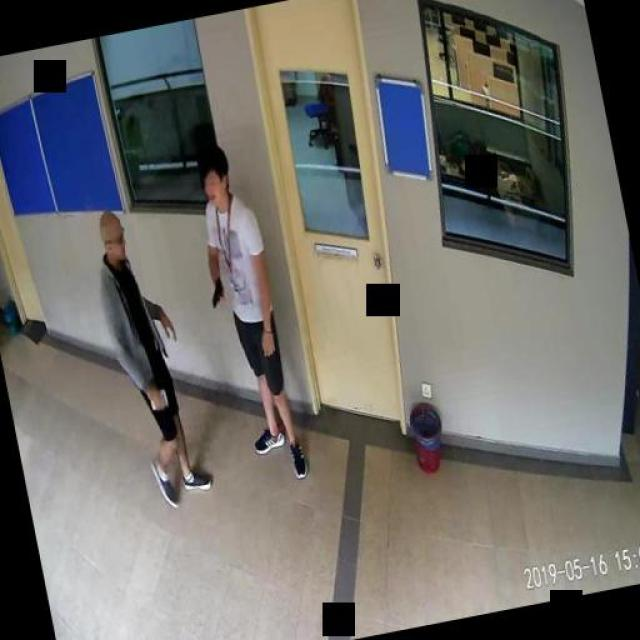gun: (206, 276, 225, 309)
